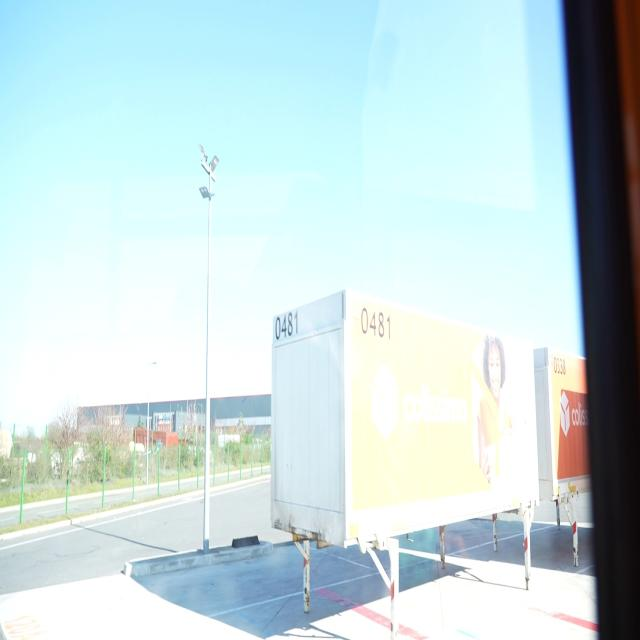Code: (358, 303, 397, 346), (270, 307, 304, 340), (548, 349, 568, 381)
